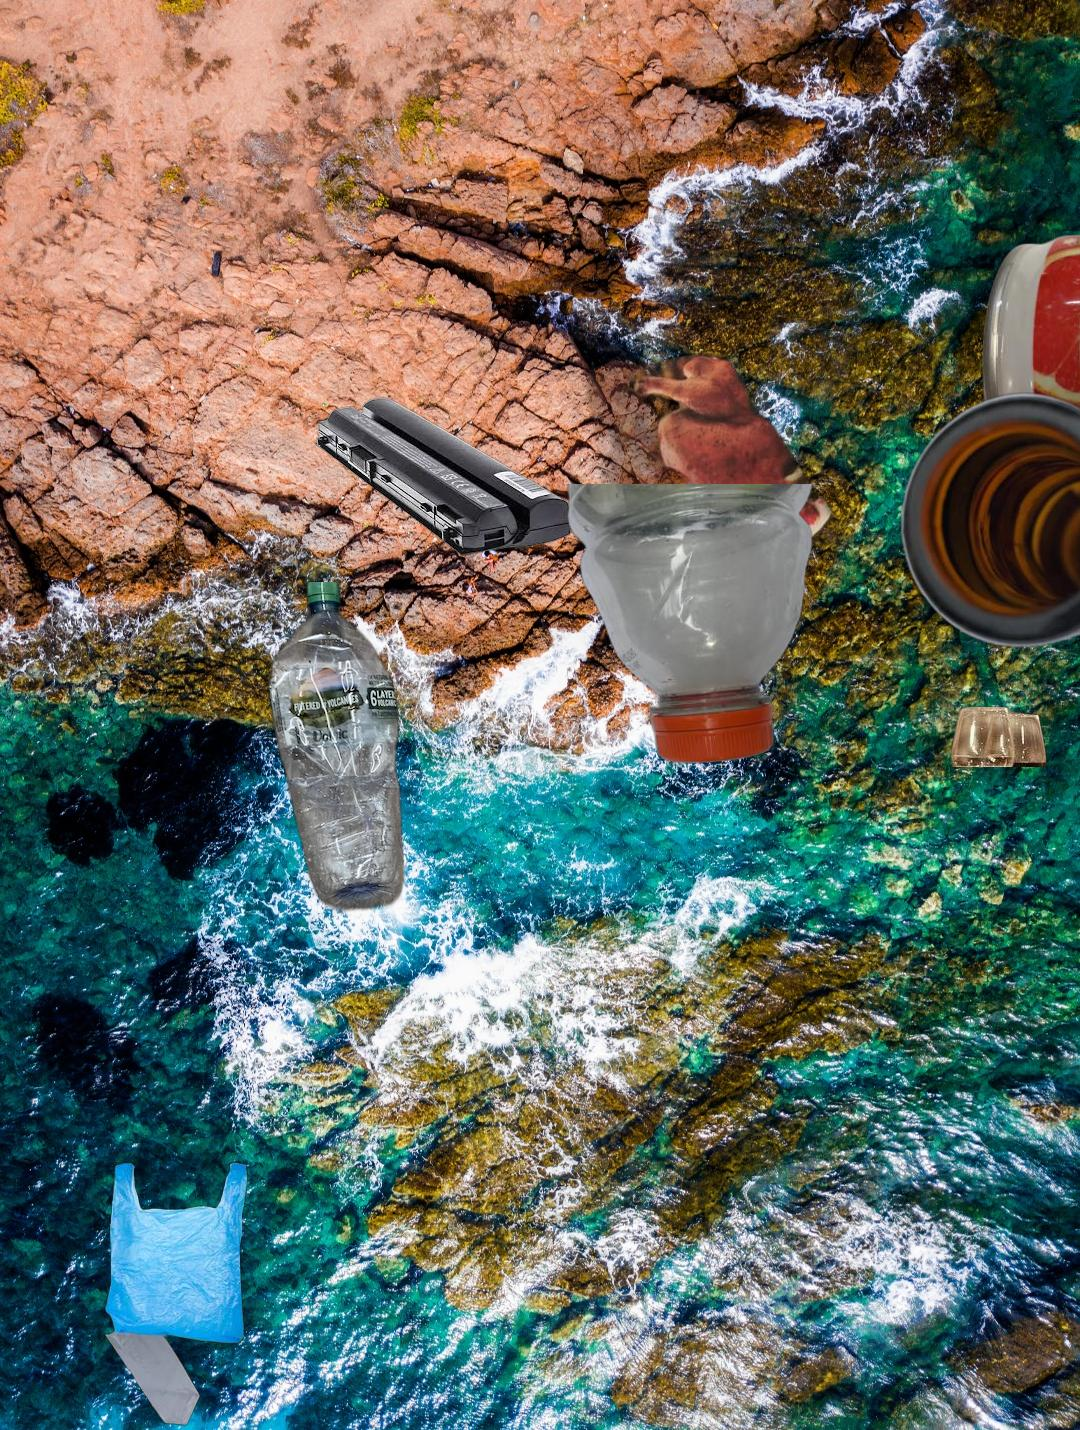battery: (314, 395, 573, 559)
glass: (896, 389, 1080, 651)
metal-cans: (978, 215, 1080, 515)
paper: (574, 244, 933, 582)
paper-bag: (948, 704, 1080, 767)
plastic-bag: (102, 1161, 251, 1428)
plastic-bottles: (562, 484, 817, 765), (264, 582, 408, 917)
